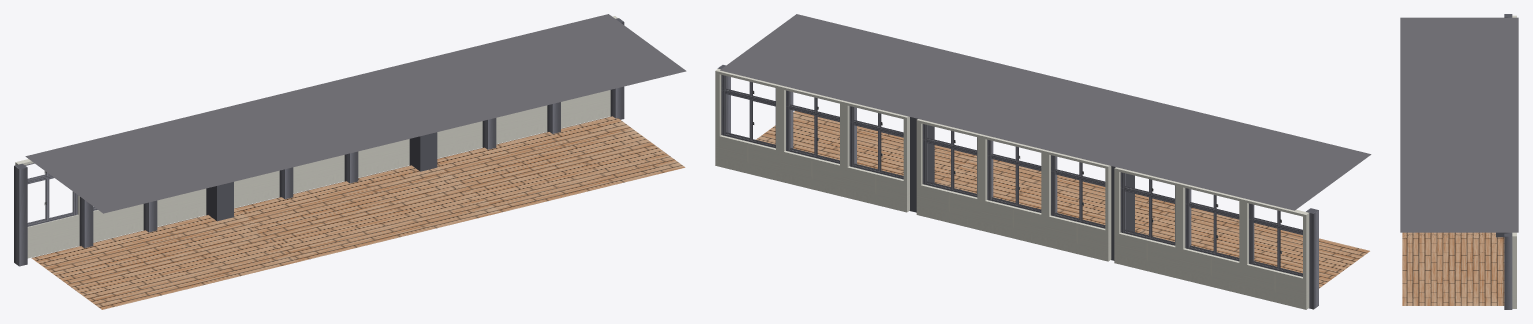
Rendered from Asset_28_Corridor.fbx.
The picture shows the model from 3 angles, left to right: view 1: azimuth 30°, elevation 25°; view 2: azimuth 150°, elevation 25°; view 3: azimuth 270°, elevation 25°; orthographic projection. The views are drawn at different scales.
Parts seen in each view (by area): view 1: SK_19_Floor3, SK_19_Floor2, group11_pCube10, School_KabeDoa:group11_pCube9, group11_pCube9, pCube3, pCube16, pCube15, SK_08_Window21, pCube13, pCube11; view 2: SK_19_Floor3, SK_19_Floor2, group11_pCube10, School_KabeDoa:group11_pCube9, group11_pCube9, SK_08_Window19, School_KabeDoa:SK_08_Window19, SK_08_Window22, SK_08_Window17, pCube16, School_KabeDoa:SK_08_Window18, School_KabeDoa:SK_08_Window17 (+5 smaller); view 3: SK_19_Floor3, SK_19_Floor2, pCube11, group11_pCube9.
Boxes of the visible parts, <box> form: SK_19_Floor3: <box>25,14,686,213</box>; SK_19_Floor2: <box>31,116,685,309</box>; group11_pCube10: <box>15,159,206,258</box>; School_KabeDoa:group11_pCube9: <box>234,139,409,207</box>; group11_pCube9: <box>437,16,617,158</box>; pCube3: <box>14,163,27,266</box>; pCube16: <box>409,132,437,171</box>; pCube15: <box>206,182,233,221</box>; SK_08_Window21: <box>25,163,77,226</box>; pCube13: <box>79,196,93,247</box>; pCube11: <box>610,18,624,119</box>; SK_19_Floor3: <box>720,14,1371,210</box>; SK_19_Floor2: <box>756,111,1369,288</box>; group11_pCube10: <box>1114,167,1309,309</box>; School_KabeDoa:group11_pCube9: <box>916,119,1111,261</box>; group11_pCube9: <box>715,68,909,212</box>; SK_08_Window19: <box>1120,172,1175,245</box>; School_KabeDoa:SK_08_Window19: <box>922,124,977,197</box>; SK_08_Window22: <box>721,75,775,148</box>; SK_08_Window17: <box>849,106,903,179</box>; pCube16: <box>909,117,934,212</box>; School_KabeDoa:SK_08_Window18: <box>987,139,1041,212</box>; School_KabeDoa:SK_08_Window17: <box>1051,155,1105,228</box>; SK_19_Floor3: <box>1400,17,1518,232</box>; SK_19_Floor2: <box>1402,232,1504,305</box>; pCube11: <box>1504,233,1512,309</box>; group11_pCube9: <box>1512,232,1516,308</box>.
Bounding box in the file's own units: 270 × 42.43 × 60.39.
